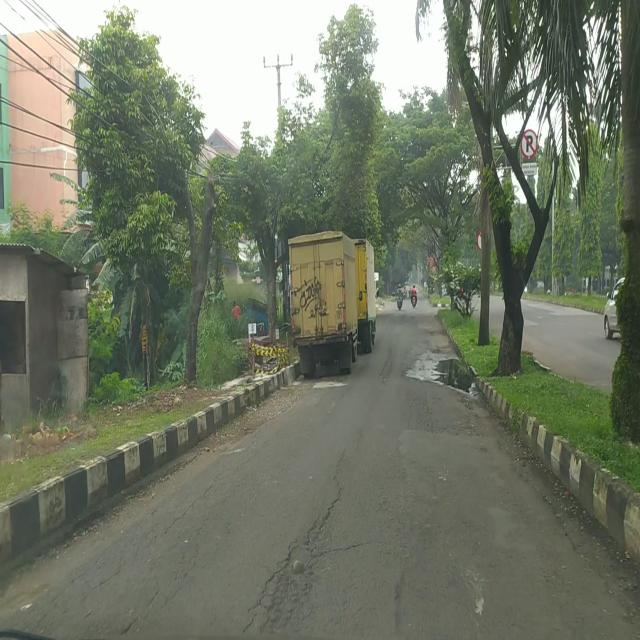Drain Hole: (240, 485, 343, 636)
